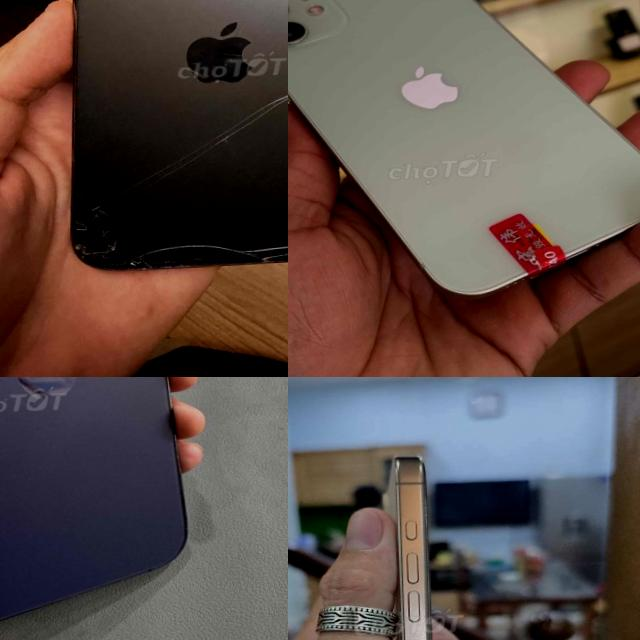gen_14: (0, 377, 214, 640)
gen_15: (288, 0, 640, 303), (39, 0, 288, 293)
gen_16: (359, 440, 476, 640)
physical_damage: (58, 58, 288, 275)
